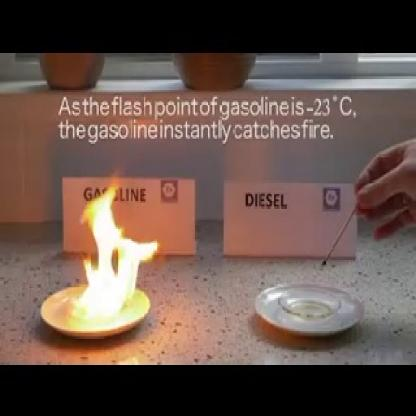fire: (79, 173, 162, 315)
